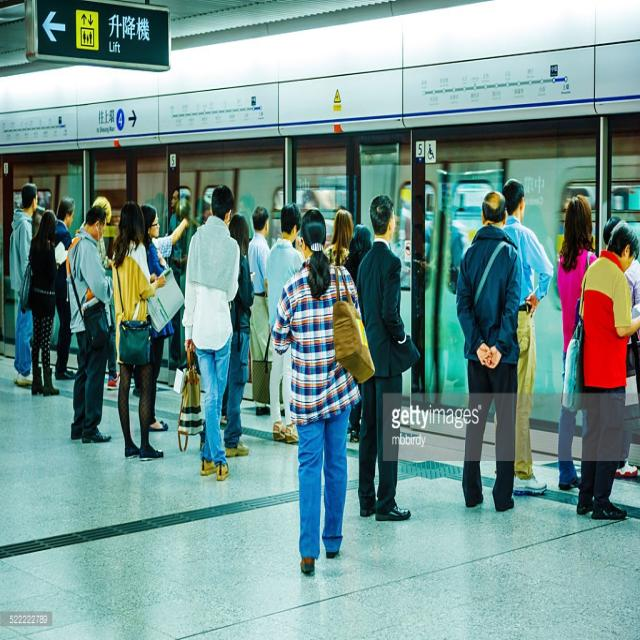body: (270, 206, 364, 575), (560, 217, 640, 526), (453, 188, 523, 516), (355, 192, 422, 524), (181, 182, 241, 482), (501, 176, 556, 497), (108, 196, 168, 461), (554, 192, 600, 492), (64, 202, 115, 449), (600, 218, 640, 489), (264, 201, 305, 446), (139, 202, 175, 434), (18, 207, 61, 399), (154, 184, 196, 376), (223, 212, 255, 459), (532, 182, 567, 406), (389, 197, 465, 293), (342, 223, 374, 443), (8, 181, 38, 387), (52, 194, 77, 382), (247, 207, 274, 363), (568, 178, 640, 220), (78, 196, 113, 270), (323, 207, 355, 267), (11, 188, 47, 236), (90, 194, 124, 226), (193, 181, 215, 227), (298, 187, 324, 214), (272, 184, 288, 217)
